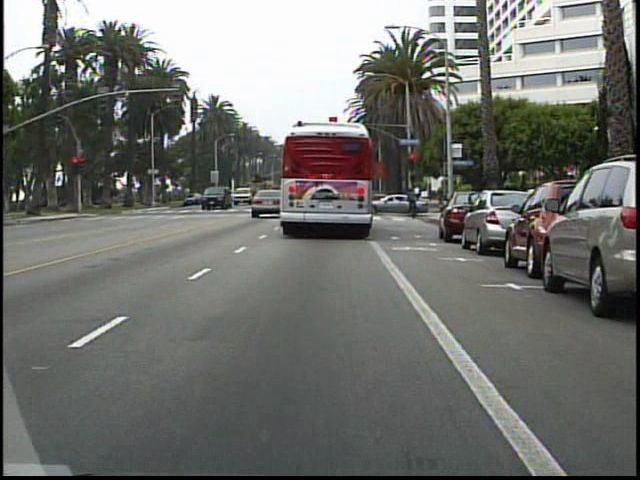person: (402, 184, 420, 217)
